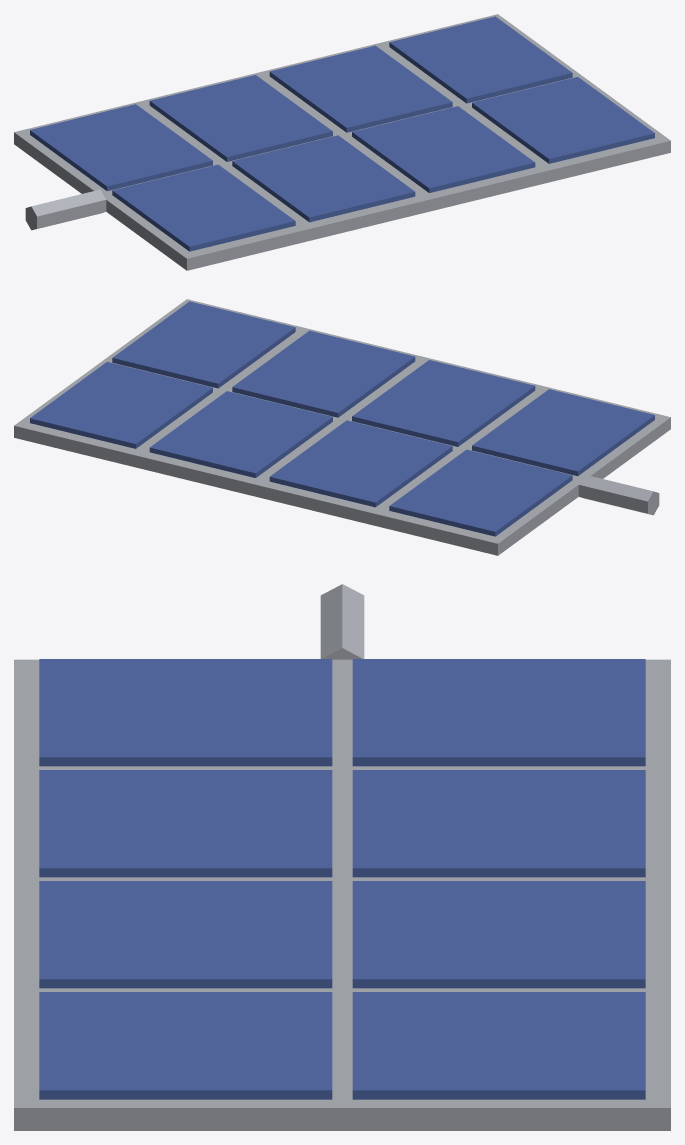
Rendered from solar.glb.
3 views of the same model, one above another, from view 1: azimuth 30°, elevation 25°; view 2: azimuth 150°, elevation 25°; view 3: azimuth 270°, elevation 25° (orthographic). The views are drawn at different scales.
Parts seen in each view (by area): view 1: solar; view 2: solar; view 3: solar.
Part boxes in pixels (box(x1,y1,x2,y2)): solar: box(14, 14, 670, 270); solar: box(14, 299, 670, 555); solar: box(14, 584, 670, 1130).
Bounding box in the file's own units: 2.4 × 0.1 × 1.3.
